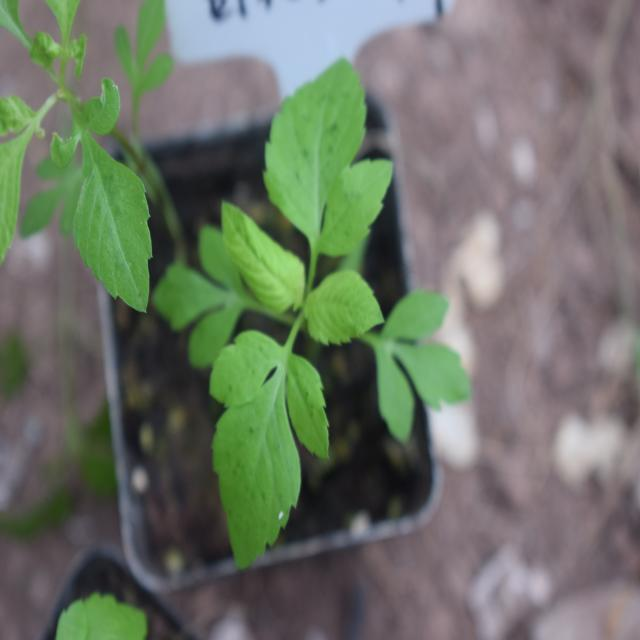Bidens pilosa: (154, 73, 472, 542)
